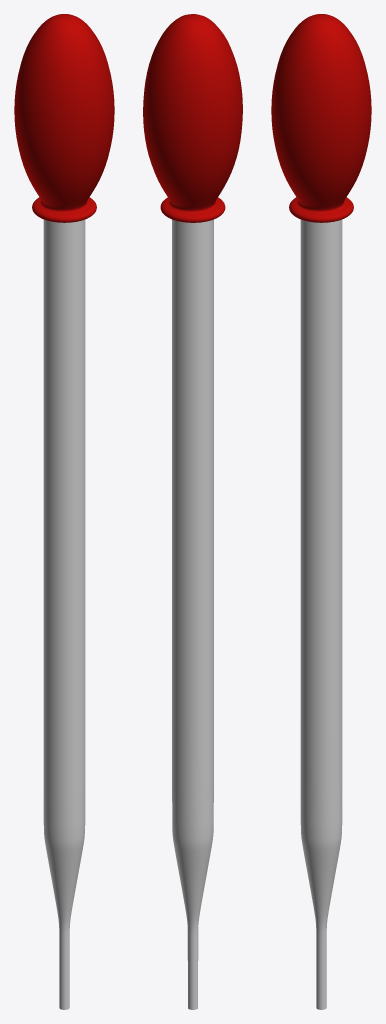
File: pipet_15_cm.fbx
3 renders of one model, left to right at view 1: azimuth 90°, elevation 25°; view 2: azimuth 150°, elevation 25°; view 3: azimuth 270°, elevation 25°, orthographic.
Parts seen in each view (by area): view 1: Pipet, Karet; view 2: Pipet, Karet; view 3: Pipet, Karet.
Boxes of the visible parts, left/top/right/bottom form: Pipet: left=43, top=219, right=85, bottom=1009; Karet: left=14, top=14, right=114, bottom=222; Pipet: left=172, top=219, right=213, bottom=1009; Karet: left=143, top=14, right=242, bottom=222; Pipet: left=300, top=219, right=342, bottom=1009; Karet: left=271, top=14, right=371, bottom=222.
Size of the model in its own units: 1.41 by 15.34 by 1.41.
